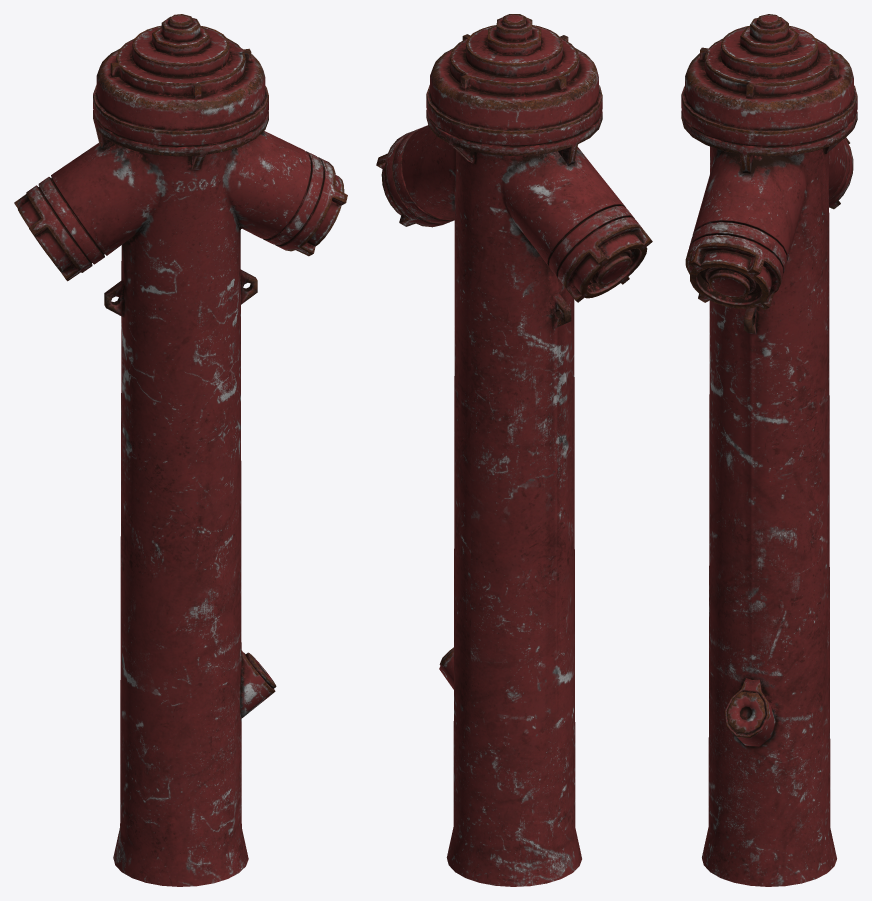
The model's file is street_hydrant.fbx.
3 views of the same model, side by side, from view 1: azimuth 30°, elevation 25°; view 2: azimuth 150°, elevation 25°; view 3: azimuth 270°, elevation 25° (orthographic).
Parts seen in each view (by area): view 1: street_hydrant; view 2: street_hydrant; view 3: street_hydrant.
Part boxes in pixels (x1=…): street_hydrant: x1=14, y1=14, x2=347, y2=886; street_hydrant: x1=376, y1=14, x2=652, y2=886; street_hydrant: x1=681, y1=14, x2=857, y2=886.
Size of the model in its own units: 0.8061 by 2.24 by 0.4269.
1 material, 1 textured.
